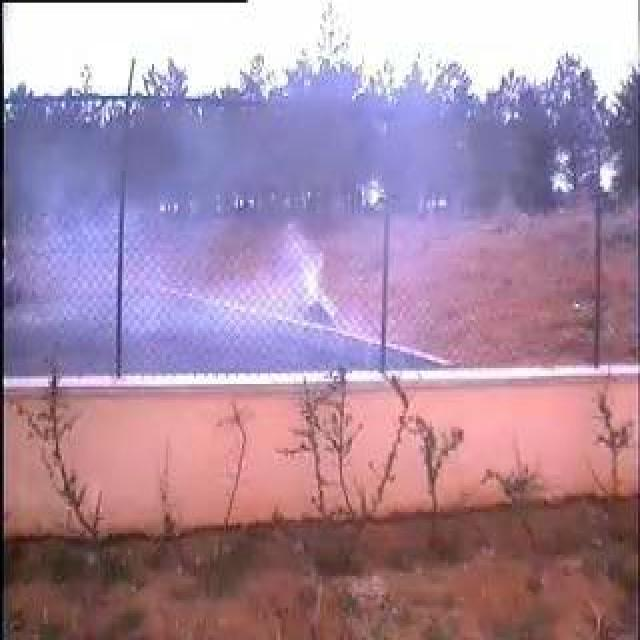Smoke: (26, 162, 338, 370)
